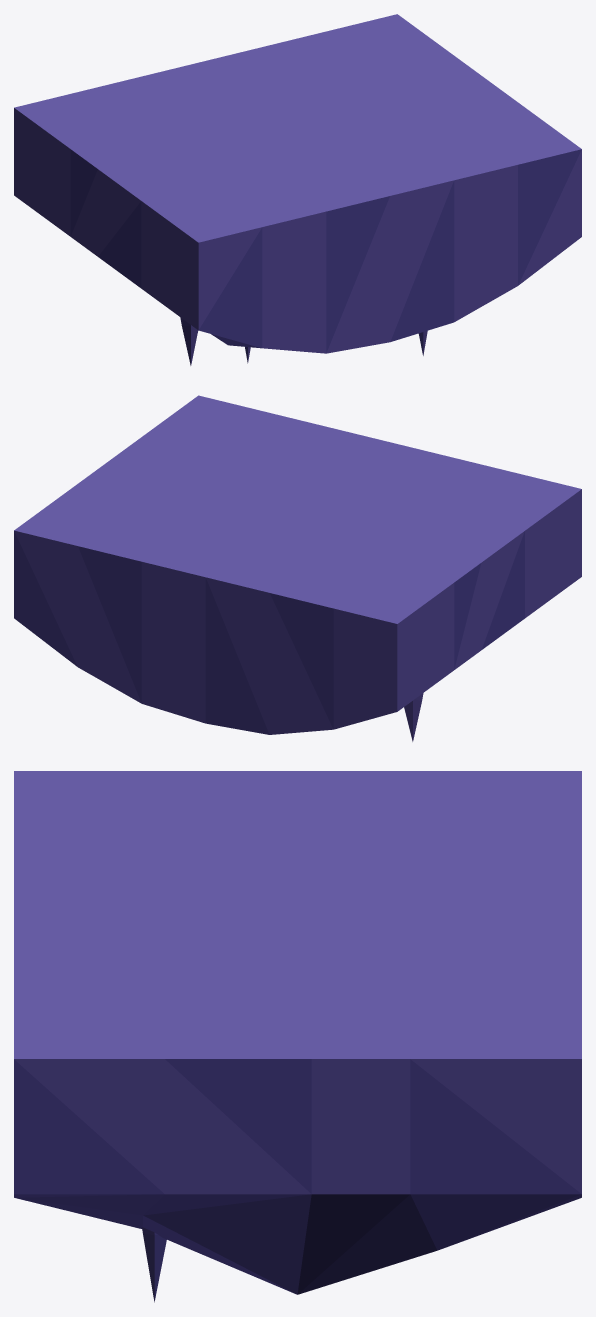
Rendered from Mine_Ceiling_Rock_B.obj.
The picture shows the model from 3 angles, top to bottom: view 1: azimuth 30°, elevation 25°; view 2: azimuth 150°, elevation 25°; view 3: azimuth 270°, elevation 25°; orthographic projection. The views are drawn at different scales.
Visible parts, largest first — view 1: Mine_Ceiling_Rock_B; view 2: Mine_Ceiling_Rock_B; view 3: Mine_Ceiling_Rock_B.
Boxes of the visible parts, x1=… form: Mine_Ceiling_Rock_B: x1=14, y1=14, x2=581, y2=365; Mine_Ceiling_Rock_B: x1=14, y1=395, x2=581, y2=741; Mine_Ceiling_Rock_B: x1=14, y1=771, x2=581, y2=1302.
Bounding box in the file's own units: 4.8 × 2.6 × 4.
